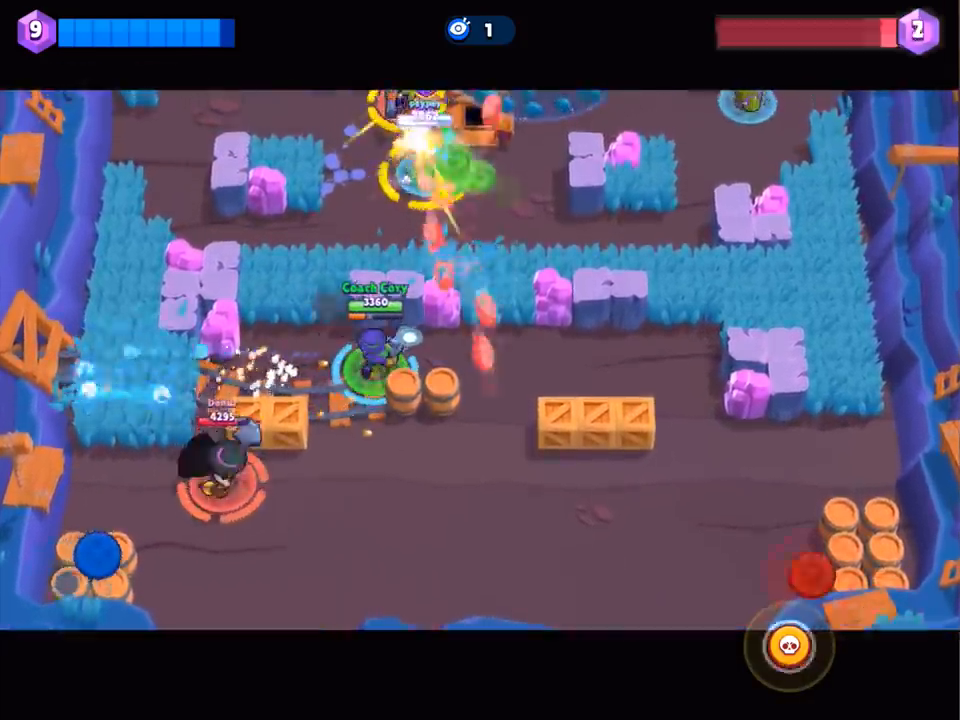move_stick: (75, 526, 120, 585)
red: (174, 399, 281, 528)
